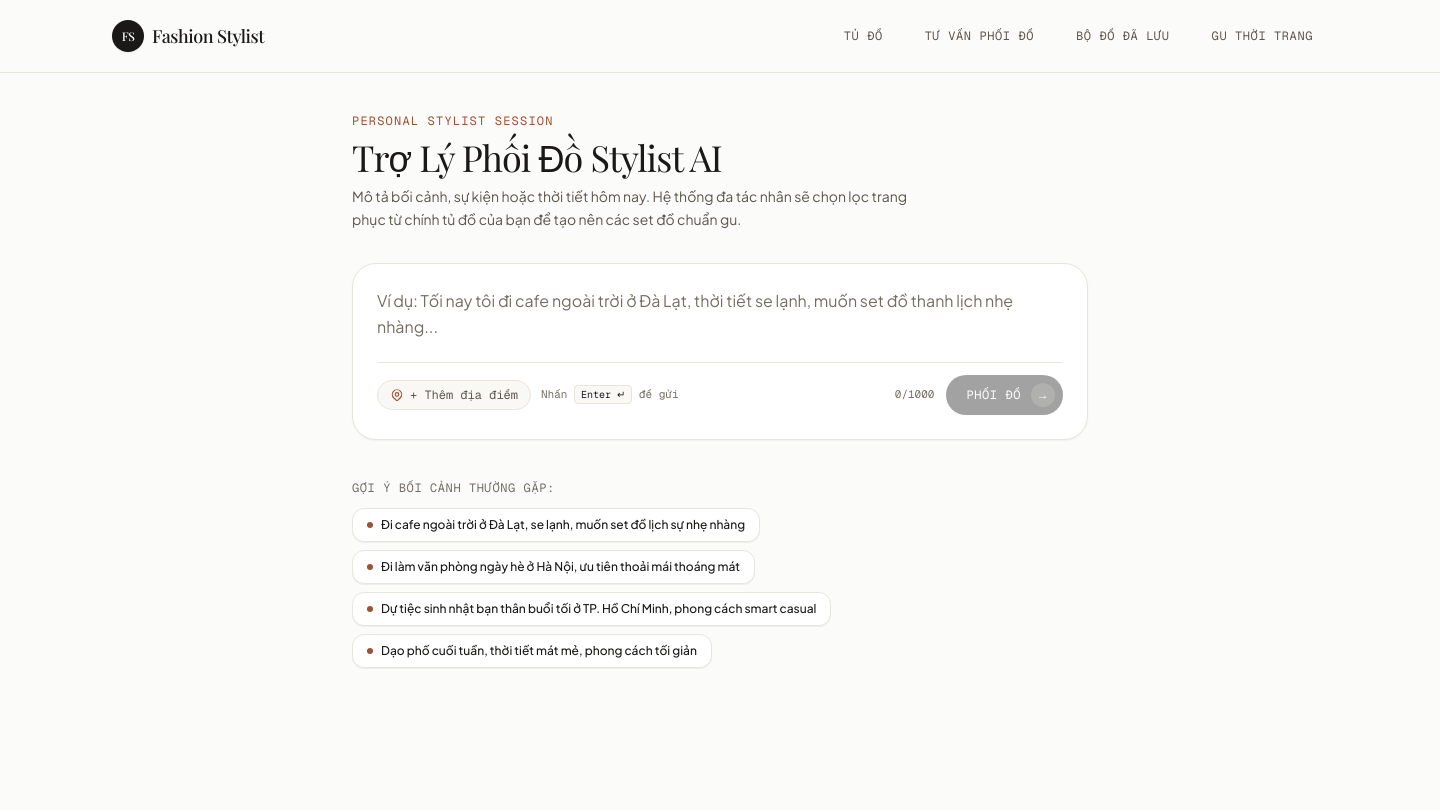
Test: Chat Page & Components Integration › renders domain error WARDROBE_EMPTY with direct link to wardrobe page
Replace the text in the text box named "Nhu cầu phối đồ của bạn" with "Đi dạo phố" at (720, 314), box [377,288,1063,340]
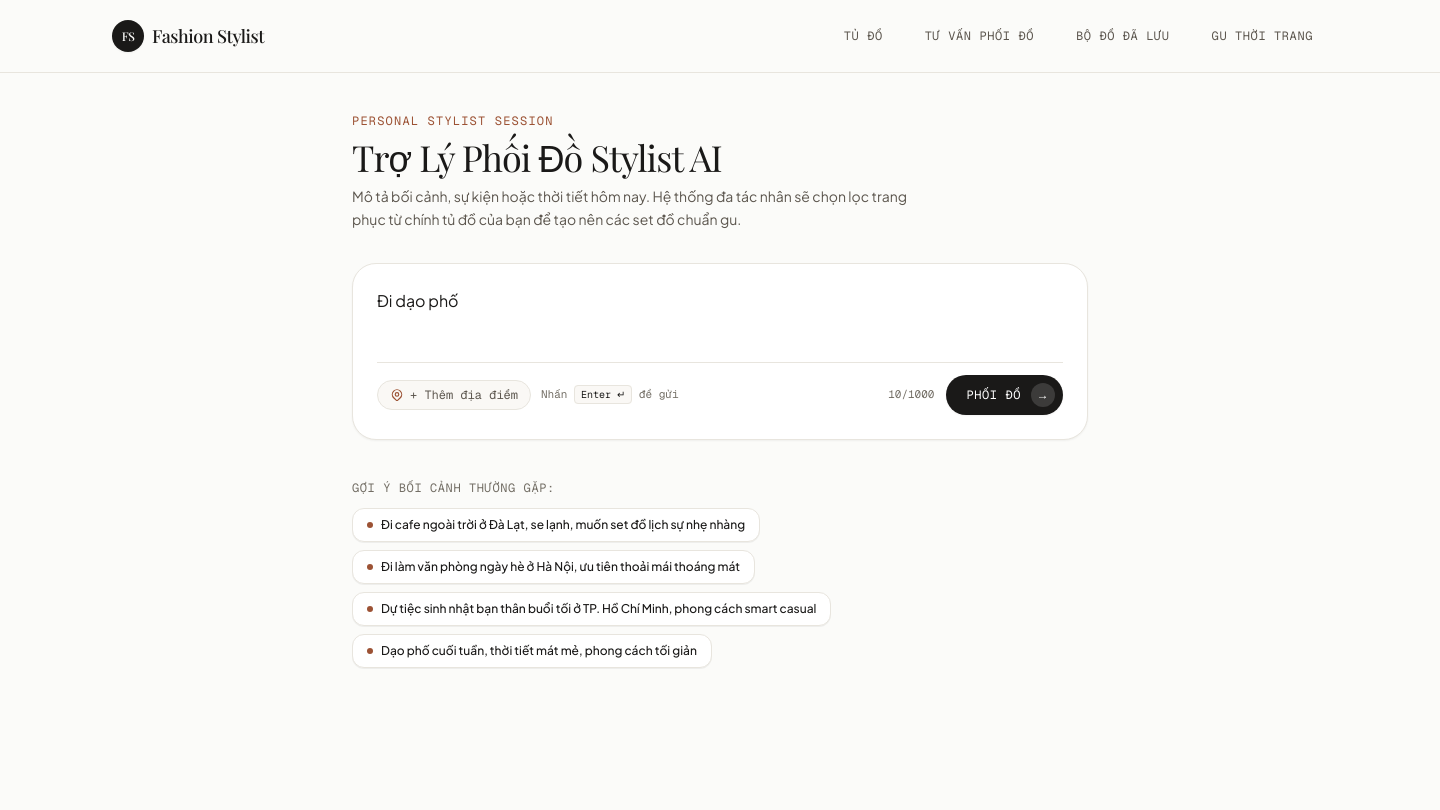
Click the button "Phối Đồ →" at (1005, 394), box [946,374,1063,414]
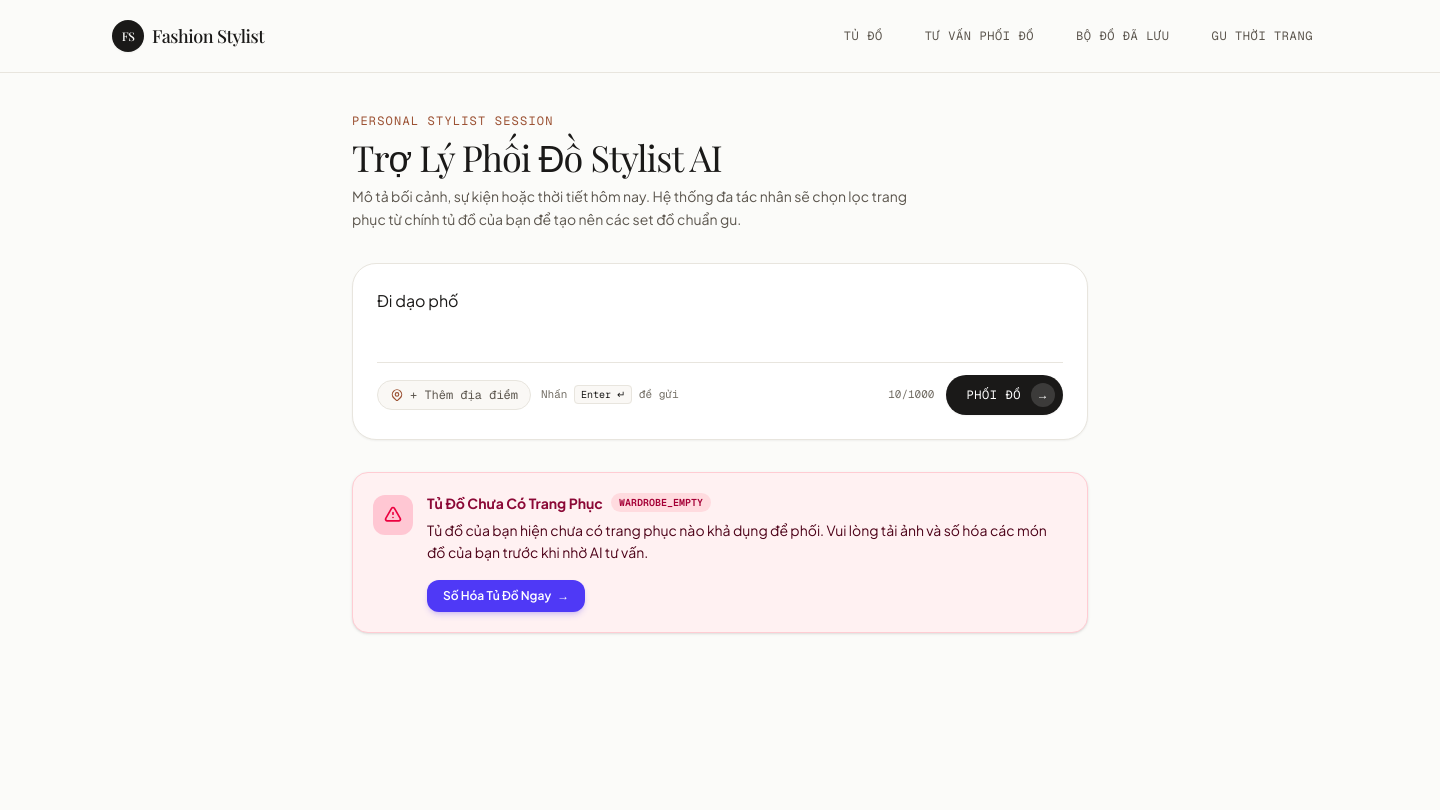
Expected: the message is shown, [352,472,1088,633]
Expected: the heading "Tủ Đồ Chưa Có Trang Phục" is shown, [427,492,603,512]
Expected: the link "Số Hóa Tủ Đồ Ngay →" is shown, [427,580,585,612]
